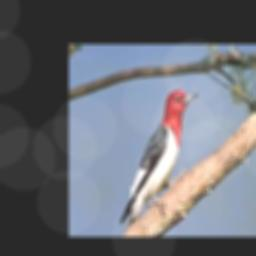Woodpecker: (119, 89, 198, 230)
